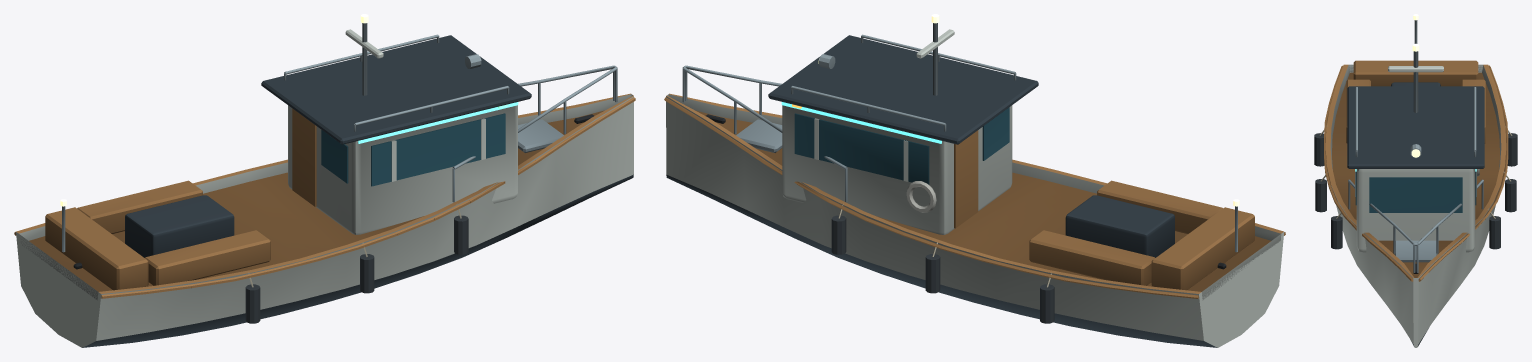
The model's file is harbour-launch.lod0.glb.
The picture shows the model from 3 angles, left to right: view 1: azimuth 30°, elevation 25°; view 2: azimuth 150°, elevation 25°; view 3: azimuth 270°, elevation 25°; orthographic projection. The views are drawn at different scales.
Visible parts, largest first — view 1: structure; view 2: structure; view 3: structure.
Part boxes in pixels (x1,y1,x2,y2): structure: (14,14,635,347); structure: (664,14,1285,347); structure: (1314,14,1517,347).
Bounding box in the file's own units: 9.01 × 3.85 × 3.27.
